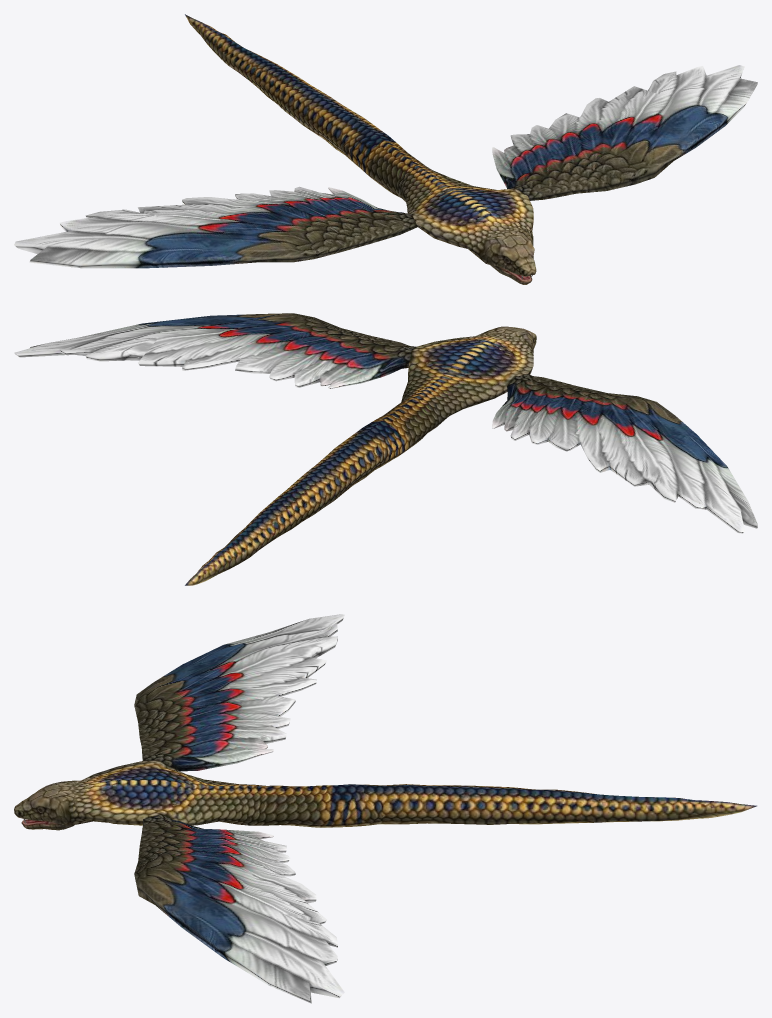
The model's file is 44-wadjet.glb.
The picture shows the model from 3 angles, top to bottom: view 1: azimuth 30°, elevation 25°; view 2: azimuth 150°, elevation 25°; view 3: azimuth 270°, elevation 25°; orthographic projection. The views are drawn at different scales.
Size of the model in its own units: 9.34 by 0.5918 by 7.7.
Materials: 1 (1 with a texture image).
